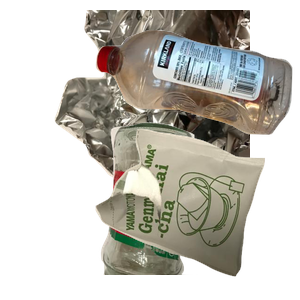glass: (98, 120, 286, 300)
metal: (52, 10, 292, 190)
plastic: (93, 27, 300, 154)
trash: (93, 126, 300, 300)
